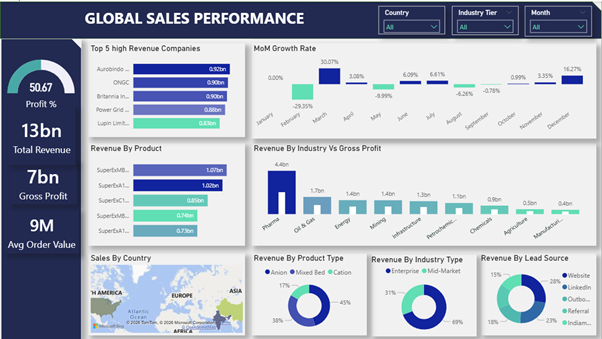

Layout of this report page (visuals, bound fields, positions):
{"tool":"powerbi","page":{"name":"Dashboard","canvas":[1280,720],"ordinal":0},"visuals":[{"type":"shape","box":[0,0,1280.3,79.6],"z":0},{"type":"textbox","box":[175.6,8.2,838.4,160.5],"z":1000},{"type":"shape","box":[2.7,79.6,170.2,640.8],"z":2000},{"type":"card","fields":{"Values":["Sales_Dashboard_Final.Total_Revenue"]},"box":[17.7,224.1,142.4,124.3],"z":3000},{"type":"card","fields":{"Values":["Sales_Dashboard_Final.Total_Gross_Profit"]},"box":[20.1,338.7,143.6,91.7],"z":4000},{"type":"donutChart","title":"Revenue By Lead Source","fields":{"Y":["Sum(Sales_Dashboard_Final.Total_Amount)"],"Category":["Sales_Dashboard_Final.Lead_Source"]},"box":[1023.7,536.5,245.6,174.3],"z":6000},{"type":"card","fields":{"Values":["Sales_Dashboard_Final.AOV"]},"box":[11,443.2,156.4,93.3],"z":7000},{"type":"clusteredColumnChart","title":"Revenue By Industry Vs Gross Profit","fields":{"Category":["Sales_Dashboard_Final.Industry"],"Y":["Sum(Sales_Dashboard_Final.Total_Amount)"]},"box":[535.2,301.9,734.1,218.2],"z":8000},{"type":"filledMap","title":"Sales By Country","fields":{"Category":["Sales_Dashboard_Final.Country"]},"box":[188,536.5,333.4,174.3],"z":9000},{"type":"slicer","fields":{"Values":["Sales_Dashboard_Final.Month"]},"box":[1117,9.6,142.7,64.5],"z":10000},{"type":"gauge","fields":{"Y":["Avg(Sales_Dashboard_Final.Profit_Margin_%)"]},"box":[10.4,99.8,153.2,119.4],"z":11000},{"type":"textbox","box":[35.8,200,103.8,36.2],"z":12000},{"type":"donutChart","title":"Revenue By Industry Type","fields":{"Y":["Sum(Sales_Dashboard_Final.Total_Amount)"],"Category":["Sales_Dashboard_Final.Account_Tier"]},"box":[790.4,539.3,223.7,174.3],"z":13000},{"type":"clusteredColumnChart","title":"MoM Growth Rate","fields":{"Category":["Sales_Dashboard_Final.Close_Date.Variation.Date Hierarchy.Month"],"Y":["Sales_Dashboard_Final.MoM Growth %"]},"box":[535.2,89.2,734.1,203.1],"z":14000},{"type":"slicer","fields":{"Values":["Sales_Dashboard_Final.Country"]},"box":[805.5,9.6,141.3,60.4],"z":15000},{"type":"slicer","fields":{"Values":["Sales_Dashboard_Final.Industry","Sales_Dashboard_Final.Account_Tier"]},"box":[961.9,9.6,141.3,61.7],"z":16000},{"type":"barChart","title":"Revenue By Product","fields":{"Category":["Sales_Dashboard_Final.Product_Name"],"Y":["Sum(Sales_Dashboard_Final.Gross_Profit)"]},"box":[188,301.9,333.4,218.2],"z":17000},{"type":"barChart","title":"Top 5 high Revenue Companies","fields":{"Category":["Sales_Dashboard_Final.Company_Name"],"Y":["Sum(Sales_Dashboard_Final.Total_Amount)"]},"box":[188,89.2,333.4,199],"z":18000},{"type":"donutChart","title":"Revenue By Product Type","fields":{"Category":["Sales_Dashboard_Final.Category"],"Y":["Sales_Dashboard_Final.Total_Revenue"]},"box":[535.2,536.5,245.6,174.3],"z":20000}]}

Visuals, with their boxes in screenshot pixels (x1, y1, x2, y2), scaled from the page's 1280x720 canvas onto the 602x339 screenshot:
shape: (x1=0, y1=0, x2=601, y2=37)
textbox: (x1=83, y1=4, x2=477, y2=79)
shape: (x1=1, y1=37, x2=81, y2=338)
card - Sales_Dashboard_Final.Total_Revenue: (x1=8, y1=106, x2=75, y2=164)
card - Sales_Dashboard_Final.Total_Gross_Profit: (x1=9, y1=159, x2=77, y2=203)
"Revenue By Lead Source" donutChart: (x1=481, y1=253, x2=597, y2=335)
card - Sales_Dashboard_Final.AOV: (x1=5, y1=209, x2=79, y2=253)
"Revenue By Industry Vs Gross Profit" clusteredColumnChart: (x1=252, y1=142, x2=597, y2=245)
"Sales By Country" filledMap: (x1=88, y1=253, x2=245, y2=335)
slicer - Sales_Dashboard_Final.Month: (x1=525, y1=5, x2=592, y2=35)
gauge - Avg(Sales_Dashboard_Final.Profit_Margin_%): (x1=5, y1=47, x2=77, y2=103)
textbox: (x1=17, y1=94, x2=66, y2=111)
"Revenue By Industry Type" donutChart: (x1=372, y1=254, x2=477, y2=336)
"MoM Growth Rate" clusteredColumnChart: (x1=252, y1=42, x2=597, y2=138)
slicer - Sales_Dashboard_Final.Country: (x1=379, y1=5, x2=445, y2=33)
slicer - Sales_Dashboard_Final.Industry x Sales_Dashboard_Final.Account_Tier: (x1=452, y1=5, x2=519, y2=34)
"Revenue By Product" barChart: (x1=88, y1=142, x2=245, y2=245)
"Top 5 high Revenue Companies" barChart: (x1=88, y1=42, x2=245, y2=136)
"Revenue By Product Type" donutChart: (x1=252, y1=253, x2=367, y2=335)
